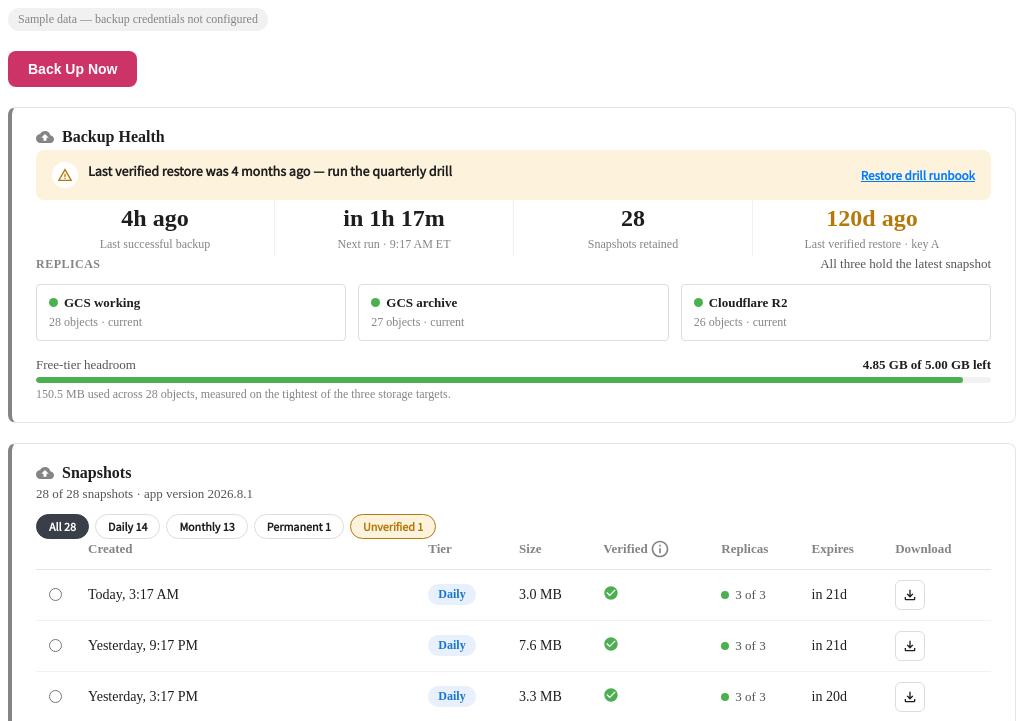
Test: BackupsTab › clears the snapshot selection when the active filter no longer matches it
Click the button "Daily 14".
click(128, 526)  # box [95, 514, 160, 539]
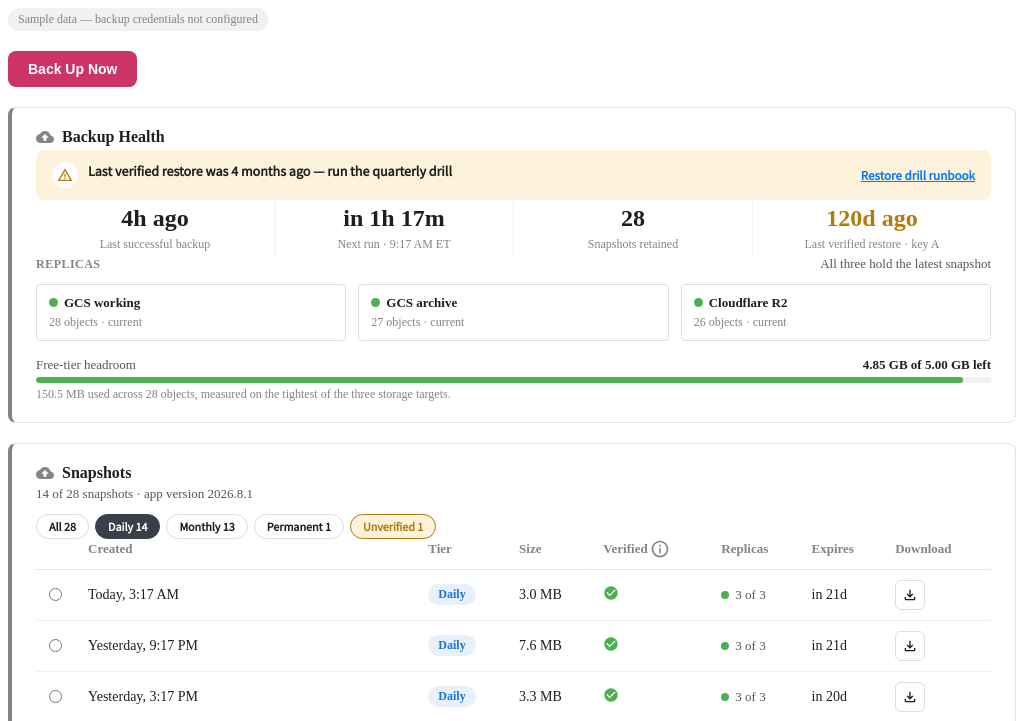
Click the radio button named "Select Today, 3:17 AM snapshot".
click(56, 594)  # box [49, 588, 62, 601]
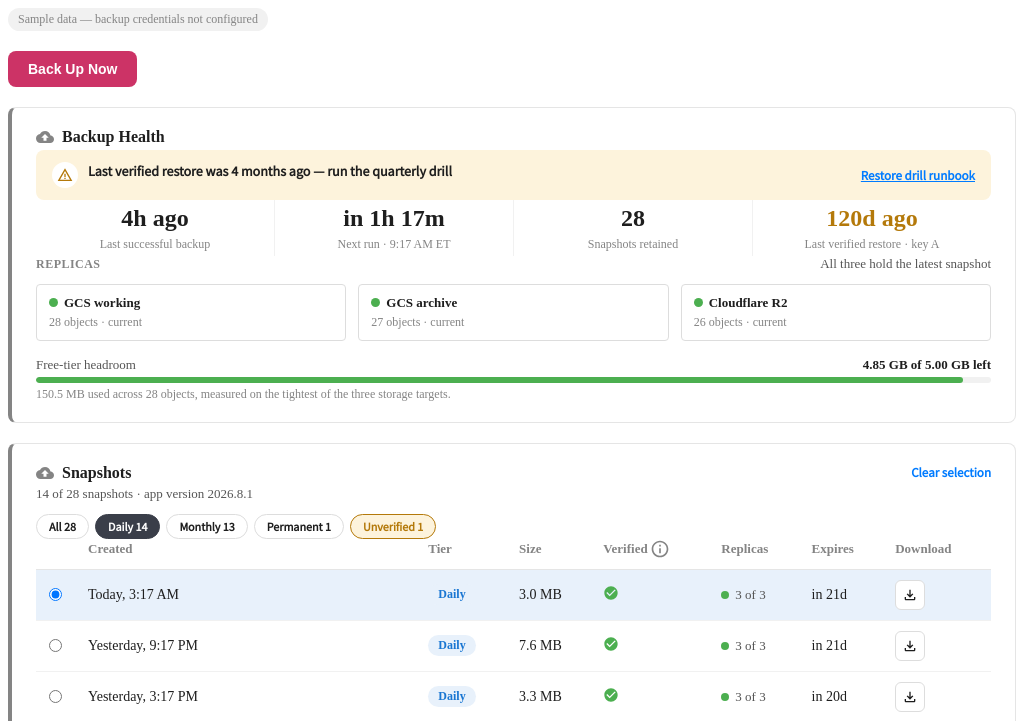
Check: the text "Select a snapshot above to generate its restore command." is not shown
Click the button "Monthly 13".
click(207, 526)  # box [166, 514, 248, 539]
(page scrolled)
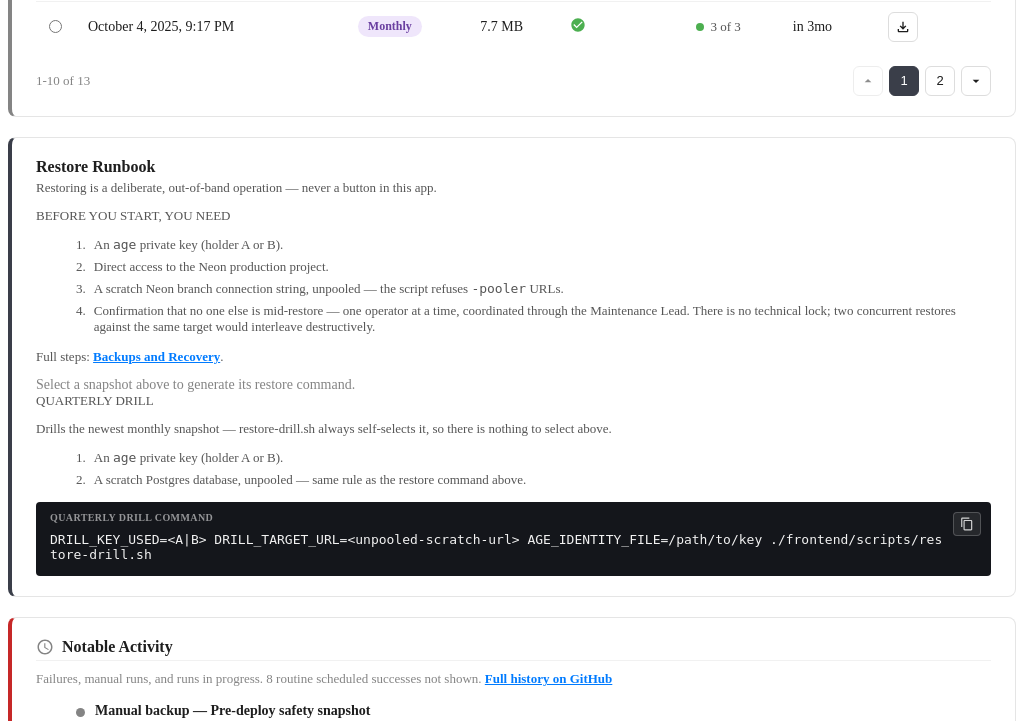
Check: the text "Select a snapshot above to generate its restore command." is shown, box [36, 377, 355, 392]
